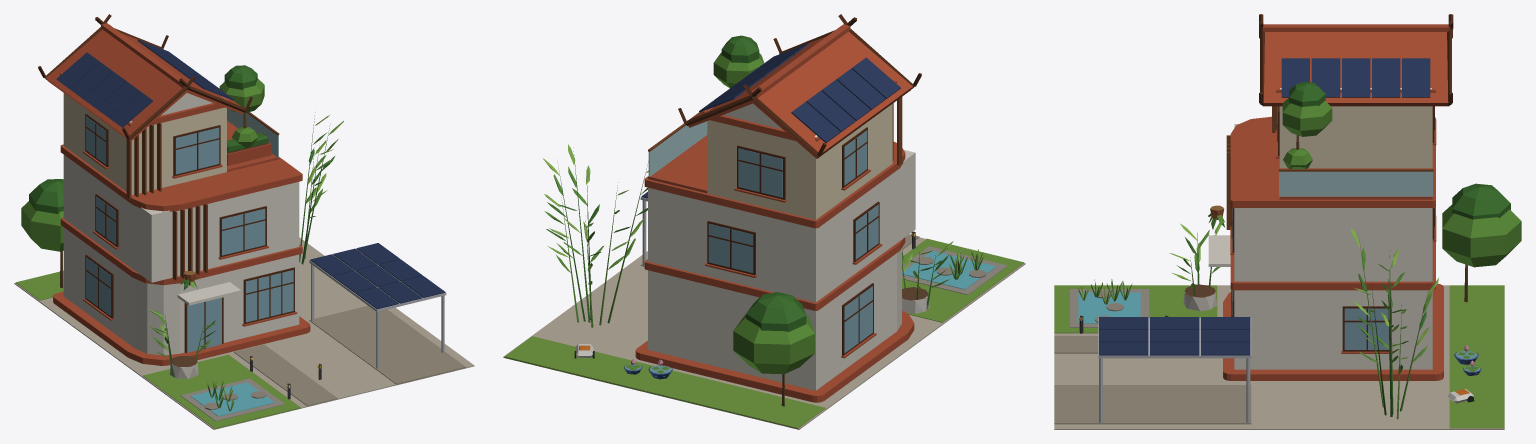
File: house12_2.glb
3 views of the same model, side by side, from view 1: azimuth 30°, elevation 25°; view 2: azimuth 150°, elevation 25°; view 3: azimuth 270°, elevation 25° (orthographic). The views are drawn at different scales.
Parts seen in each view (by area): view 1: body; view 2: body; view 3: body.
Part boxes in pixels (bbox=[...]): body: bbox=[14, 14, 474, 429]; body: bbox=[503, 14, 1025, 429]; body: bbox=[1054, 14, 1521, 429].
Bounding box in the file's own units: 12.79 × 11.89 × 16.5.
